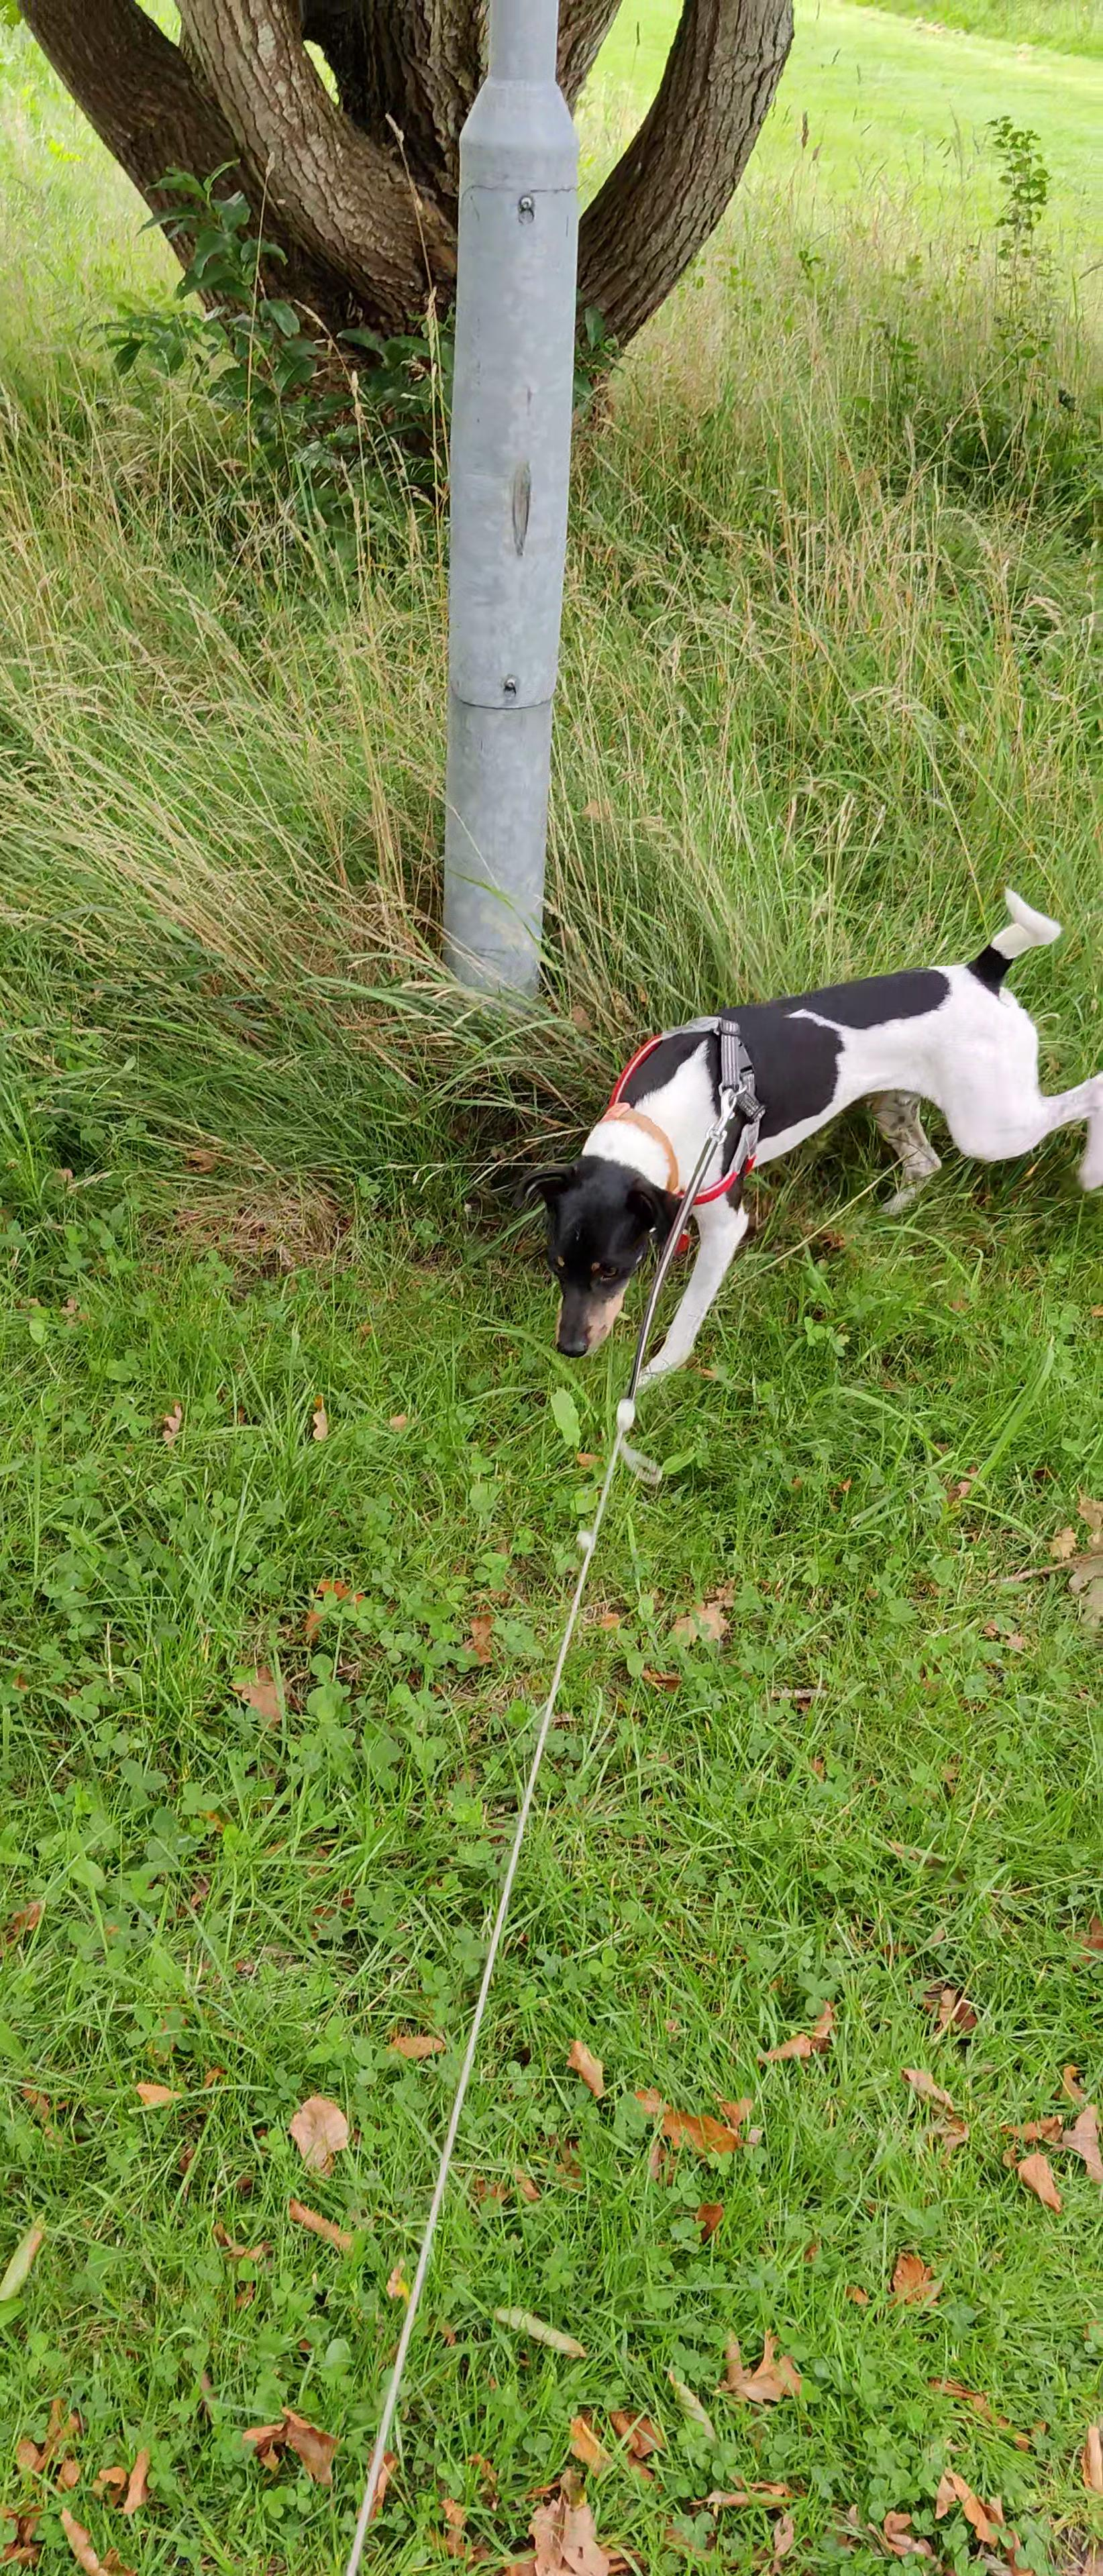Dog: (508, 879, 1103, 1400)
